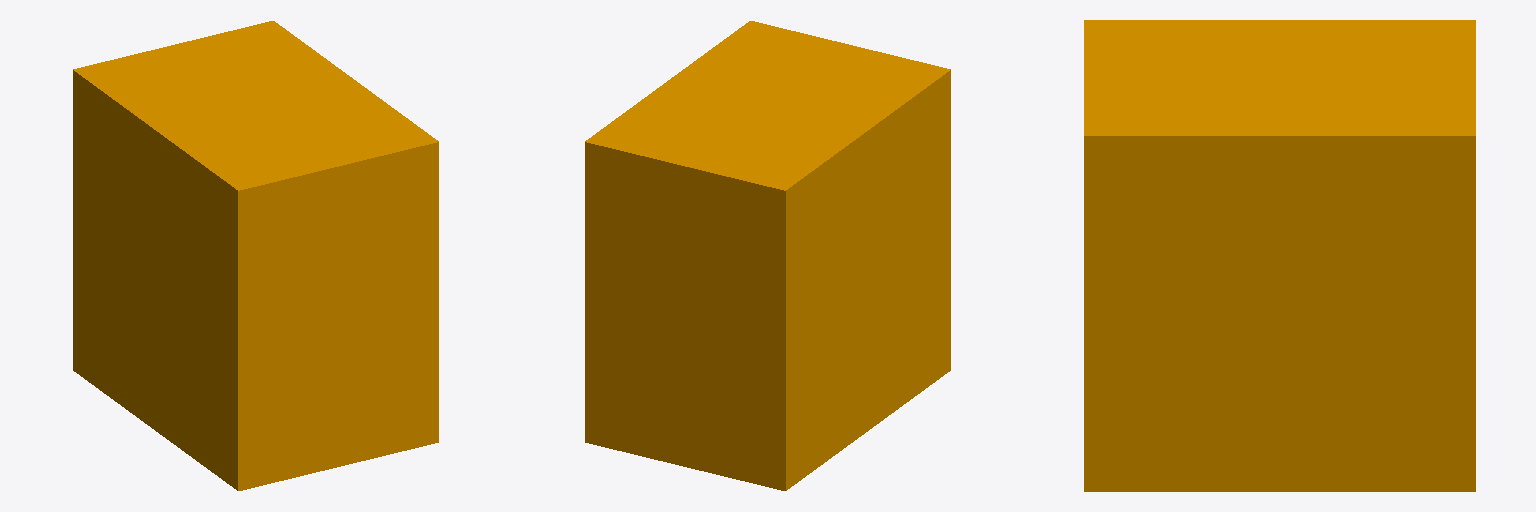
The robot description file, URDF, robot "t":
<?xml version="1.0" ?>
<!-- =================================================================================== -->
<!-- |    This document was autogenerated by xacro from t06_caret.xacro                | -->
<!-- |    EDITING THIS FILE BY HAND IS NOT RECOMMENDED                                 | -->
<!-- =================================================================================== -->
<robot name="t">
  <link name="a">
    <visual>
      <geometry>
        <box size="0.7 1 1"/>
      </geometry>
    </visual>
  </link>
</robot>

--- What the picture shows (computed from the rendered views, not written in the file) ---
3 views of the same robot in one strip: view 1: azimuth 30°, elevation 25°; view 2: azimuth 150°, elevation 25°; view 3: azimuth 270°, elevation 25° (orthographic).
Model t with 1 links and 0 joints (none), rooted at a, posed every joint at zero.
Links seen in each view (by area): view 1: a; view 2: a; view 3: a.
Link boxes in pixels (x1,y1,x2,y2): a: (73,21,438,490); a: (585,21,950,490); a: (1084,20,1475,491).
Size in the robot's own frame: 0.7 by 1 by 1 metres.
Geometry: primitives only (box / cylinder / sphere), no mesh files.
